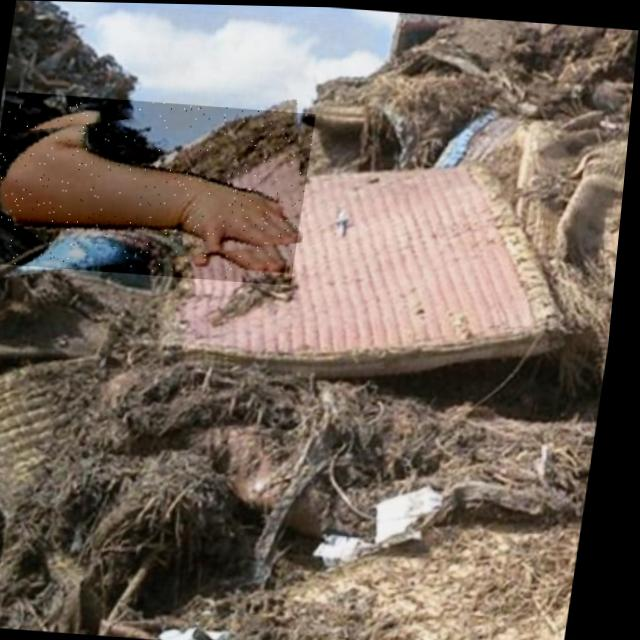Person in Rubble: (0, 91, 320, 284)
